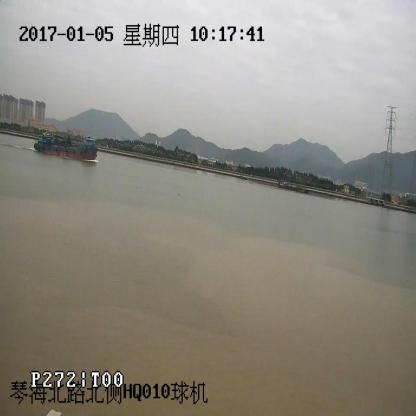Bulk Carrier: (35, 132, 98, 162)
